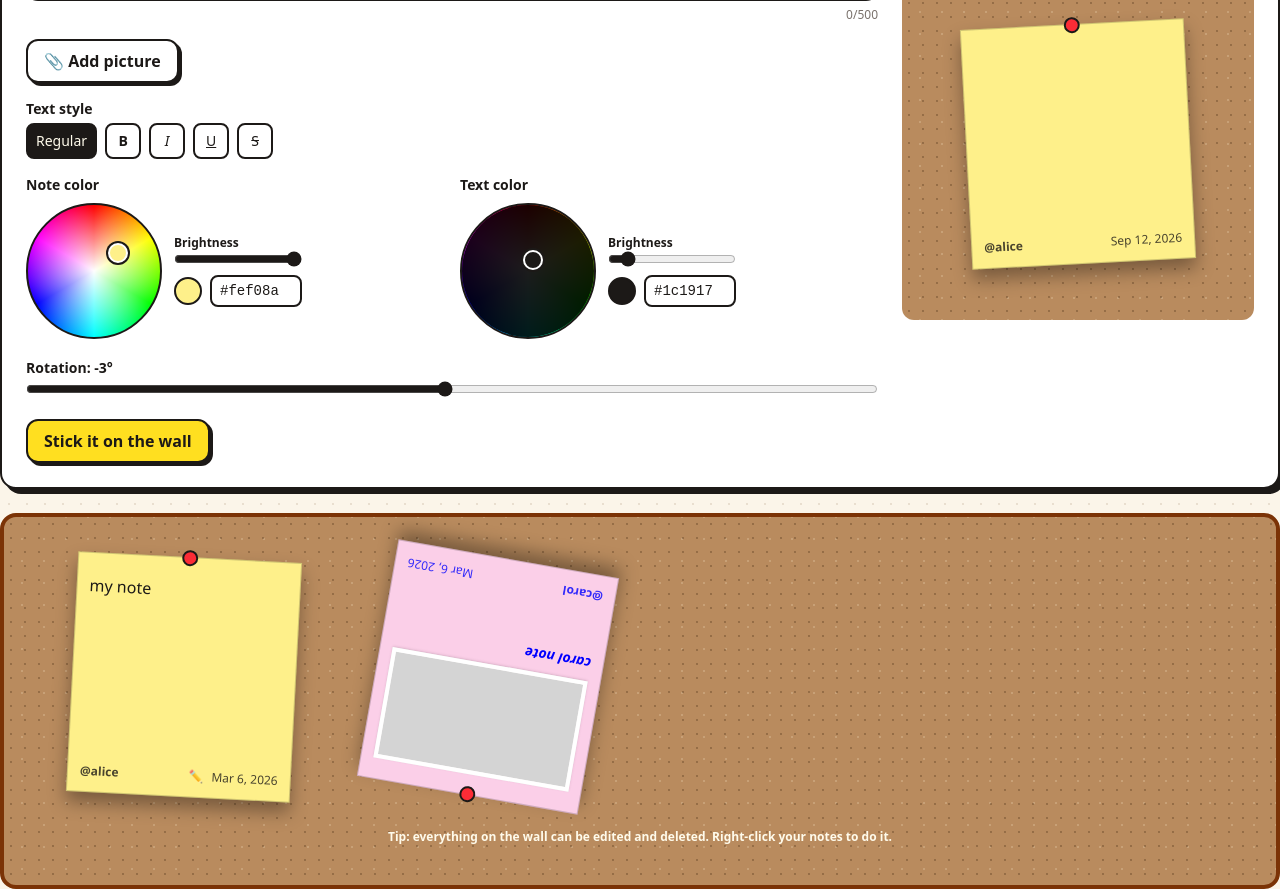
Test case: UserWallPage › opens the editor with the pencil button and cancels without saving
(page scrolled)
Click the button named "Edit this note" at (196, 777), box [184,768,208,785]
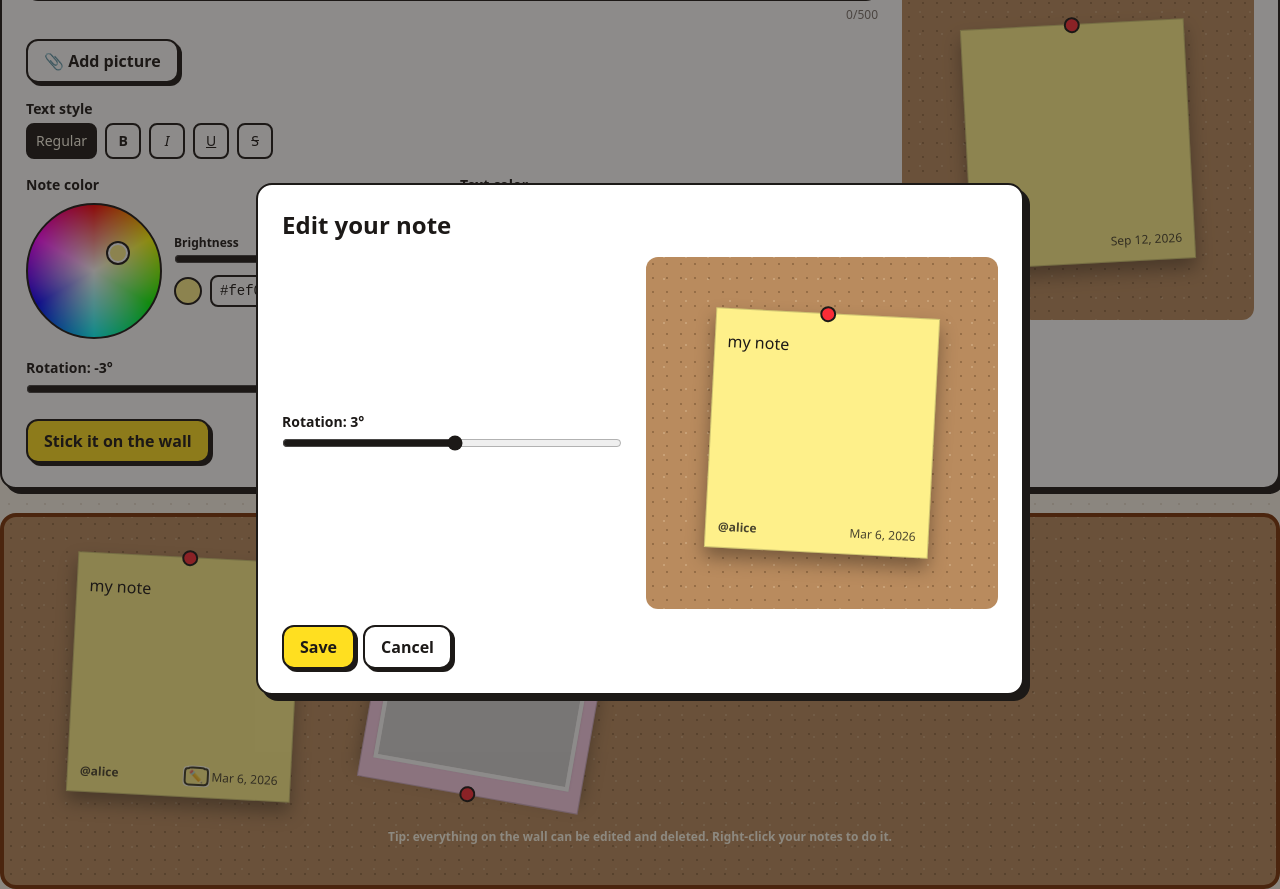
Click the button "Cancel" at (407, 647), box [363,625,452,669]
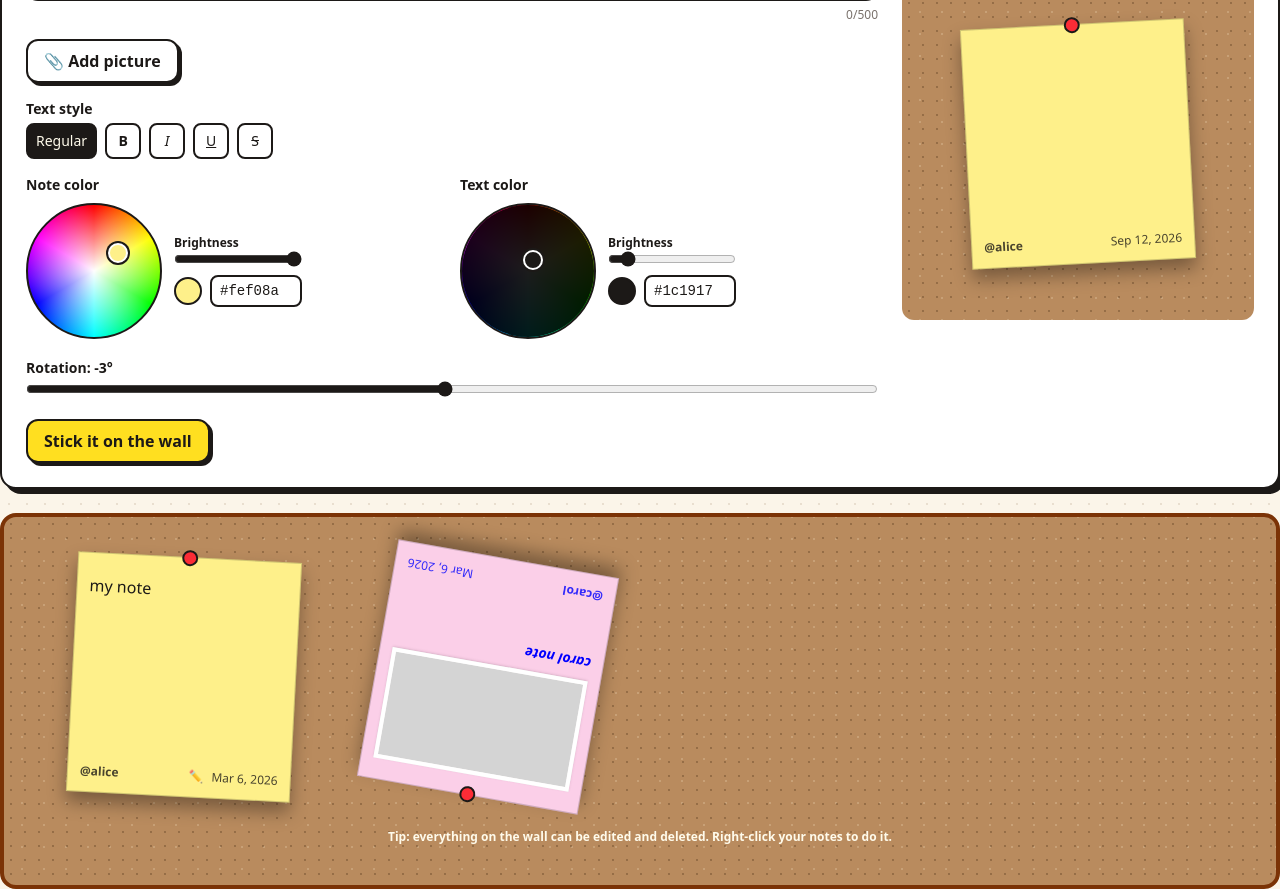
Now the dialog is gone
